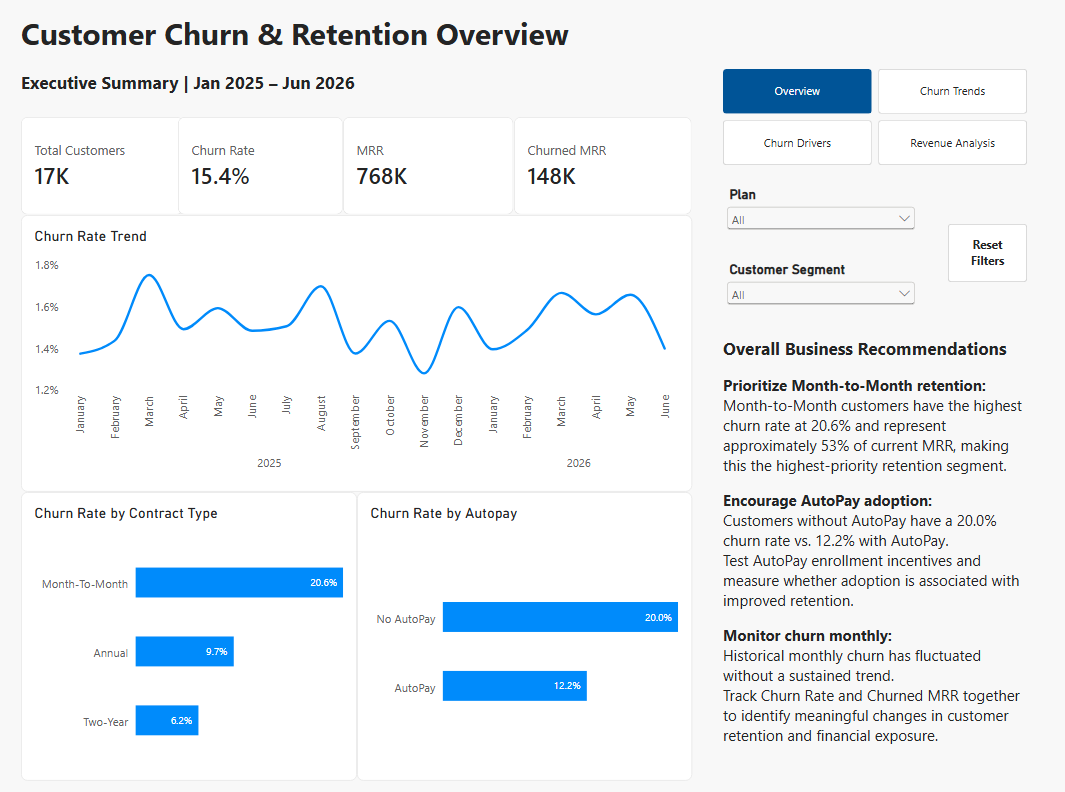

This screenshot's page, from the dashboard's own definition file:
{"tool":"powerbi","page":{"name":"Overview","canvas":[1920,1080],"ordinal":0},"visuals":[{"type":"cardVisual","fields":{"Data":["current_subscriptions.Current Total Customers"]},"box":[153.8,156.2,203.8,122.5],"z":0},{"type":"cardVisual","fields":{"Data":["current_subscriptions.Current Churn Rate"]},"box":[350,156.2,206.2,122.5],"z":1000},{"type":"cardVisual","fields":{"Data":["current_subscriptions.Current Monthly Recurring Revenue (MRR)"]},"box":[556.2,156.2,213.8,122.5],"z":2000},{"type":"cardVisual","fields":{"Data":["current_subscriptions.Current MRR Lost to Churn"]},"box":[770,156.2,222.5,122.5],"z":3000},{"type":"lineChart","title":"Churn Rate Trend","fields":{"Y":["subscriptions_clean.Historical Churn Rate"],"Category":["Calendar_Lookup.Year","Calendar_Lookup.Month Name"]},"box":[153.8,278.8,838.8,346.2],"z":4000},{"type":"clusteredBarChart","title":"Churn Rate by Contract Type","fields":{"Y":["current_subscriptions.Churn Rate"],"Category":["current_subscriptions.contract_type"]},"box":[153.8,625,420,361.2],"z":5000},{"type":"textbox","box":[1031.2,431.2,380,540],"z":6000},{"type":"clusteredBarChart","title":"Churn Rate by Autopay","fields":{"Y":["subscriptions_clean.Churn Rate"],"Category":["customer_master.AutoPay Status"]},"box":[573.8,625,418.8,361.2],"z":6001},{"type":"textbox","box":[153.8,26.2,838.8,72.5],"z":6002},{"type":"slicer","fields":{"Values":["PlanLookup.plan_name"]},"box":[1031.2,242.5,245,72.5],"z":6003},{"type":"slicer","fields":{"Values":["customer_master.customer_segment"]},"box":[1031.2,336.2,245,75],"z":6004},{"type":"textbox","box":[153.8,98.8,498.8,46.2],"z":6005},{"type":"pageNavigator","box":[1031.2,96.2,380,120],"z":6006},{"type":"actionButton","title":"Reset Filters","box":[1312.5,290,98.8,72.5],"z":6007}]}

Visuals, with their boxes on the page's 1920x1080 design canvas (x1, y1, x2, y2). These are canvas units, not pixel positions in the 1065x792 screenshot, which may show the page scaled, cropped or inside an application window:
cardVisual - current_subscriptions.Current Total Customers: [left=154, top=156, right=358, bottom=279]
cardVisual - current_subscriptions.Current Churn Rate: [left=350, top=156, right=556, bottom=279]
cardVisual - current_subscriptions.Current Monthly Recurring Revenue (MRR): [left=556, top=156, right=770, bottom=279]
cardVisual - current_subscriptions.Current MRR Lost to Churn: [left=770, top=156, right=992, bottom=279]
"Churn Rate Trend" lineChart: [left=154, top=279, right=993, bottom=625]
"Churn Rate by Contract Type" clusteredBarChart: [left=154, top=625, right=574, bottom=986]
textbox: [left=1031, top=431, right=1411, bottom=971]
"Churn Rate by Autopay" clusteredBarChart: [left=574, top=625, right=993, bottom=986]
textbox: [left=154, top=26, right=993, bottom=99]
slicer - PlanLookup.plan_name: [left=1031, top=242, right=1276, bottom=315]
slicer - customer_master.customer_segment: [left=1031, top=336, right=1276, bottom=411]
textbox: [left=154, top=99, right=653, bottom=145]
pageNavigator: [left=1031, top=96, right=1411, bottom=216]
"Reset Filters" actionButton: [left=1312, top=290, right=1411, bottom=362]
